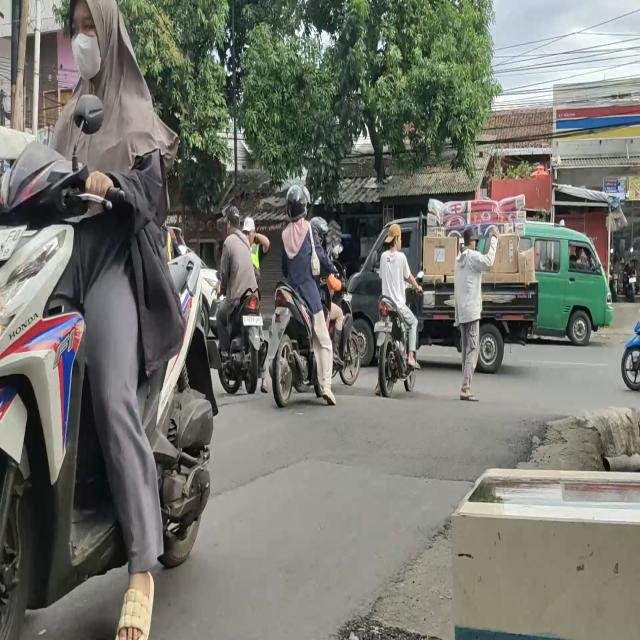helmet: (286, 186, 306, 220), (313, 218, 328, 243)
no-helmet: (66, 2, 120, 78), (225, 206, 240, 238), (388, 223, 402, 251)
